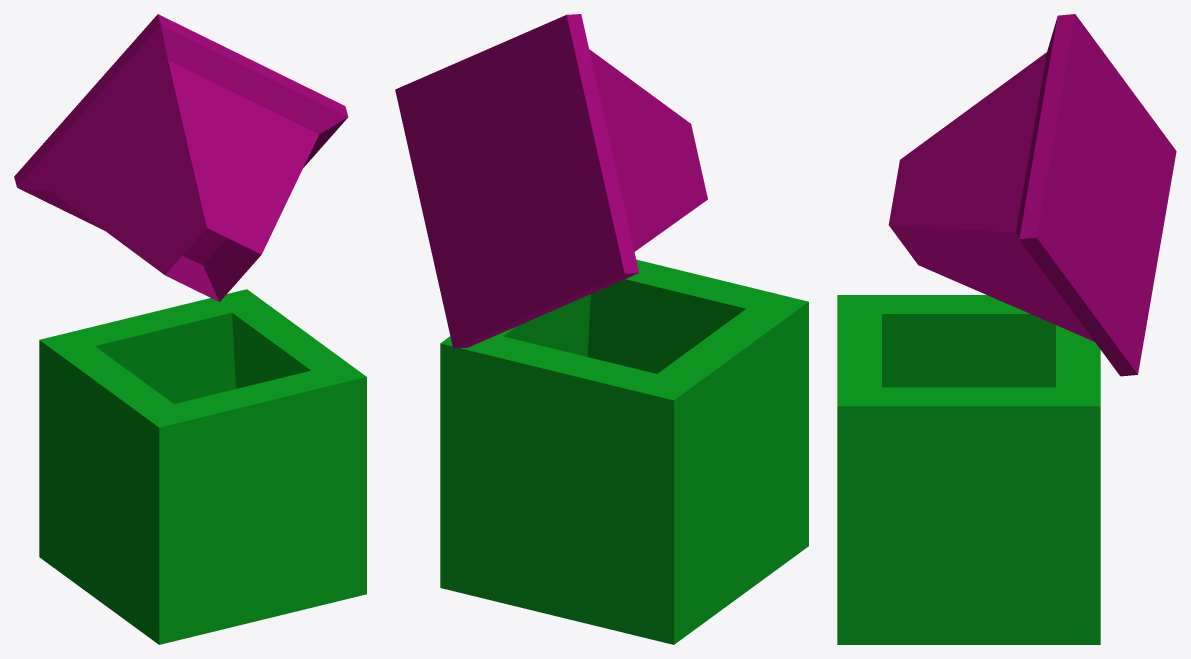
File: AnimatedBox_000050.obj
The picture shows the model from 3 angles, left to right: view 1: azimuth 30°, elevation 25°; view 2: azimuth 150°, elevation 25°; view 3: azimuth 270°, elevation 25°; orthographic projection. The views are drawn at different scales.
Visible parts, largest first — view 1: Cube, Cube.001; view 2: Cube, Cube.001; view 3: Cube, Cube.001.
Boxes of the visible parts, left/top/right/bottom form: Cube: left=39, top=289, right=366, bottom=644; Cube.001: left=14, top=14, right=348, bottom=301; Cube: left=440, top=259, right=808, bottom=644; Cube.001: left=395, top=14, right=707, bottom=348; Cube: left=837, top=295, right=1100, bottom=644; Cube.001: left=888, top=14, right=1176, bottom=376.
Bounding box in the file's own units: 2.67 × 4.84 × 2.58.
